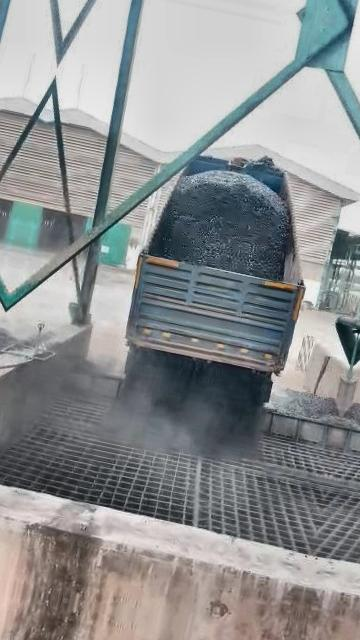gravel: (149, 171, 290, 280), (119, 346, 263, 443), (269, 389, 338, 423)
